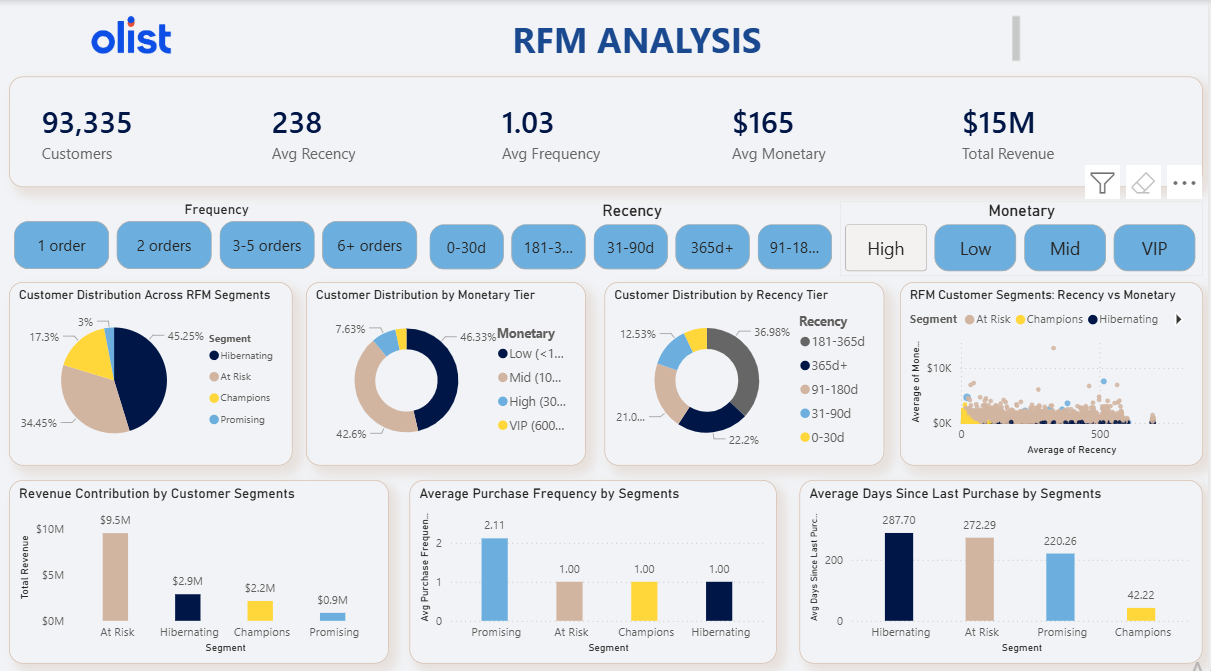

Layout of this report page (visuals, bound fields, positions):
{"tool":"powerbi","page":{"name":"Page 1","canvas":[1280,720],"ordinal":0},"visuals":[{"type":"cardVisual","fields":{"Data":["Count(rfm_segments.customer_unique_id)","Avg(rfm_segments.Recency)","Avg(rfm_segments.Frequency)","Avg(rfm_segments.Monetary)","Sum(rfm_segments.Monetary)1"]},"box":[9.4,81.3,1266.2,117.2],"z":0},{"type":"textbox","box":[281.6,11.3,805,58.6],"z":1},{"type":"image","box":[0,7.6,281.6,58.6],"z":2},{"type":"pieChart","title":"Customer Distribution Across RFM Segments","fields":{"Category":["rfm_segments.Segment"],"Y":["Count(rfm_segments.customer_unique_id)"]},"box":[9.4,298.6,300.5,194.6],"z":3},{"type":"clusteredColumnChart","title":"Revenue Contribution by Customer Segments","fields":{"Category":["rfm_segments.Segment"],"Y":["Sum(rfm_segments.Monetary)"]},"box":[9.4,508.4,402.5,194.6],"z":4},{"type":"clusteredColumnChart","title":"Average Days Since Last Purchase by Segments","fields":{"Category":["rfm_segments.Segment"],"Y":["Avg(rfm_segments.Recency)"]},"box":[848.5,508.4,427.1,194.6],"z":5},{"type":"clusteredColumnChart","title":"Average Purchase Frequency by Segments","fields":{"Category":["rfm_segments.Segment"],"Y":["Avg(rfm_segments.Frequency)"]},"box":[434.6,508.4,389.3,194.6],"z":7},{"type":"scatterChart","title":"RFM Customer Segments: Recency vs Monetary","fields":{"X":["Avg(rfm_segments.Recency)"],"Y":["Avg(rfm_segments.Monetary)"],"Series":["rfm_segments.Segment"],"Category":["rfm_segments.customer_unique_id"],"Size":["Avg(rfm_segments.Frequency)"]},"box":[954.3,298.6,321.3,194.6],"z":9},{"type":"donutChart","title":"Customer Distribution by Monetary Tier","fields":{"Category":["rfm_segments.Monetary_Tier"],"Y":["CountNonNull(rfm_segments.customer_unique_id)"]},"box":[325,298.6,296.7,194.6],"z":11},{"type":"donutChart","title":"Customer Distribution by Recency Tier","fields":{"Category":["rfm_segments.Recency_Band"],"Y":["CountNonNull(rfm_segments.customer_unique_id)"]},"box":[640.6,298.6,296.7,194.6],"z":12},{"type":"advancedSlicerVisual","title":"Frequency","fields":{"Values":["rfm_segments.Frequency_Band"]},"box":[9.4,213.5,440.3,77.5],"z":13},{"type":"advancedSlicerVisual","title":"Recency","fields":{"Values":["rfm_segments.Recency_Band"]},"box":[449.8,213.5,440.3,77.5],"z":14},{"type":"advancedSlicerVisual","title":"Monetary","fields":{"Values":["rfm_segments.Monetary_Tier - Text"]},"box":[890.1,213.5,385.5,79.4],"z":15}]}

Visuals, with their boxes in screenshot pixels (x1, y1, x2, y2), scaled from the page's 1280x720 canvas onto the 1211x671 screenshot:
cardVisual - Count(rfm_segments.customer_unique_id) x Avg(rfm_segments.Recency): (x1=9, y1=76, x2=1207, y2=185)
textbox: (x1=266, y1=11, x2=1028, y2=65)
image: (x1=0, y1=7, x2=266, y2=62)
"Customer Distribution Across RFM Segments" pieChart: (x1=9, y1=278, x2=293, y2=460)
"Revenue Contribution by Customer Segments" clusteredColumnChart: (x1=9, y1=474, x2=390, y2=655)
"Average Days Since Last Purchase by Segments" clusteredColumnChart: (x1=803, y1=474, x2=1207, y2=655)
"Average Purchase Frequency by Segments" clusteredColumnChart: (x1=411, y1=474, x2=779, y2=655)
"RFM Customer Segments: Recency vs Monetary" scatterChart: (x1=903, y1=278, x2=1207, y2=460)
"Customer Distribution by Monetary Tier" donutChart: (x1=307, y1=278, x2=588, y2=460)
"Customer Distribution by Recency Tier" donutChart: (x1=606, y1=278, x2=887, y2=460)
"Frequency" advancedSlicerVisual: (x1=9, y1=199, x2=425, y2=271)
"Recency" advancedSlicerVisual: (x1=426, y1=199, x2=842, y2=271)
"Monetary" advancedSlicerVisual: (x1=842, y1=199, x2=1207, y2=273)
